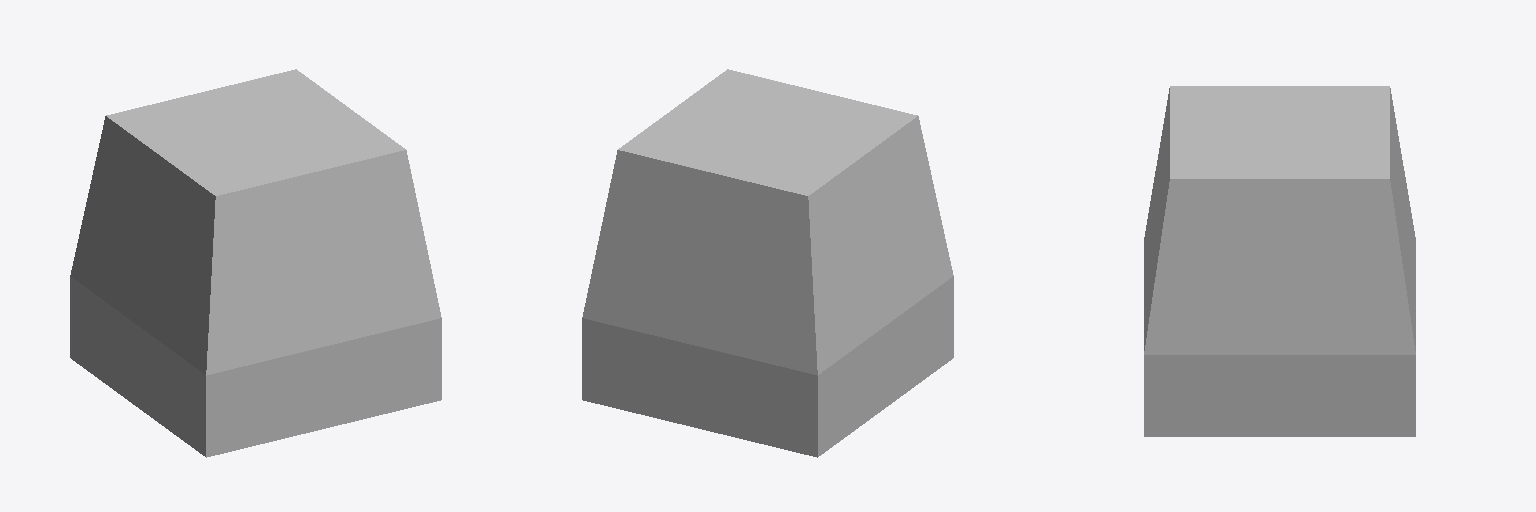
Rendered from research.obj.
The picture shows the model from 3 angles: view 1: azimuth 30°, elevation 25°; view 2: azimuth 150°, elevation 25°; view 3: azimuth 270°, elevation 25°; orthographic projection.
Parts seen in each view (by area): view 1: Cube_Cube.003; view 2: Cube_Cube.003; view 3: Cube_Cube.003.
Part boxes in pixels (x1,y1,x2,y2): Cube_Cube.003: (70,69,441,457); Cube_Cube.003: (582,69,953,457); Cube_Cube.003: (1144,86,1415,436).
Bounding box in the file's own units: 3 × 3 × 3.